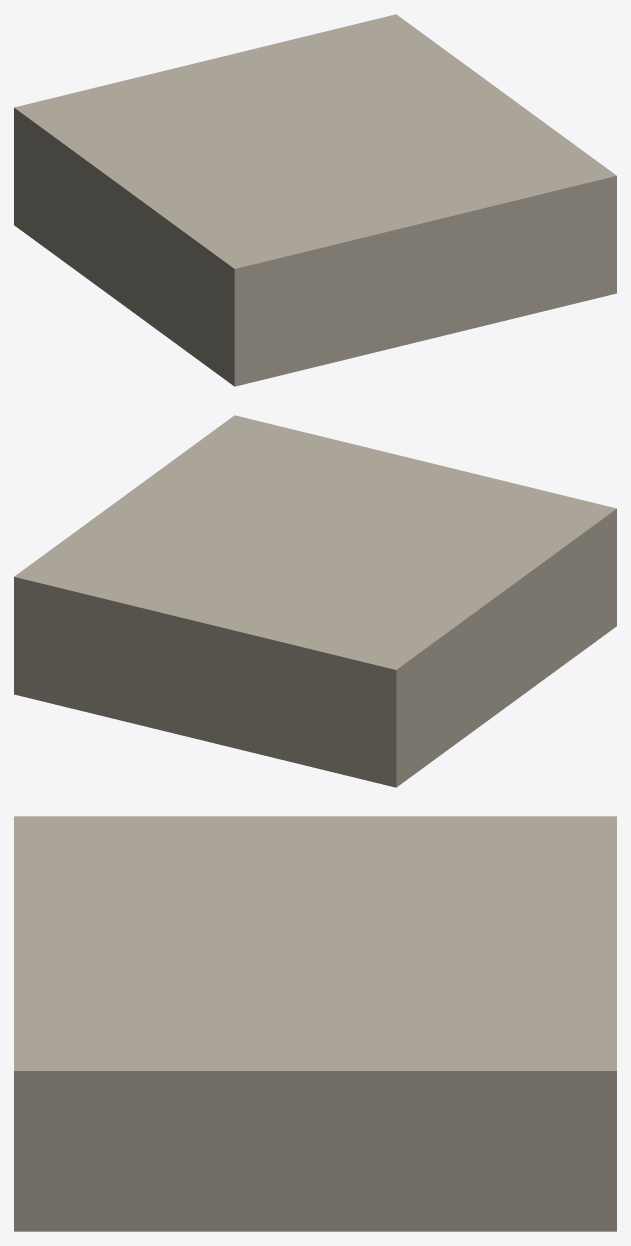
Rendered from tile_stone_road.glb.
The picture shows the model from 3 angles, top to bottom: view 1: azimuth 30°, elevation 25°; view 2: azimuth 150°, elevation 25°; view 3: azimuth 270°, elevation 25°; orthographic projection. The views are drawn at different scales.
Visible parts, largest first — view 1: road_cap, road_body; view 2: road_cap, road_body; view 3: road_cap, road_body.
Part boxes in pixels (x1,y1,x2,y2): road_cap: (14,14,616,281); road_body: (14,121,616,386); road_cap: (14,415,616,682); road_body: (14,522,616,787); road_cap: (14,816,616,1088); road_body: (14,1088,616,1231).
Size of the model in its own units: 1.7 by 0.5 by 1.7.
